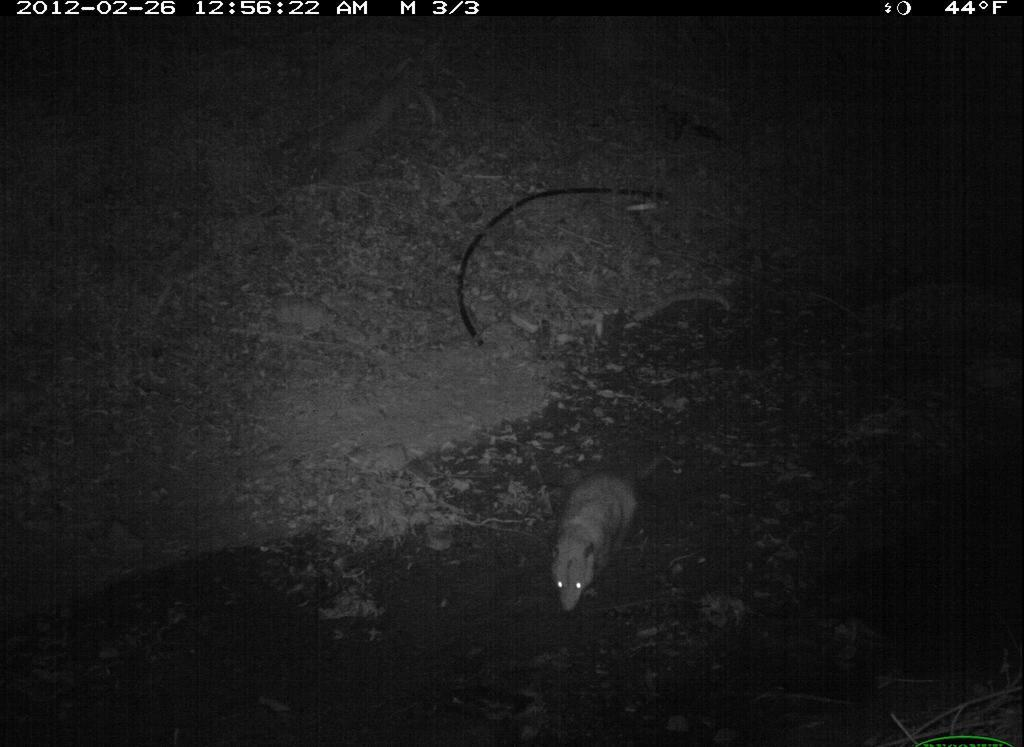opossum: (541, 449, 674, 625)
